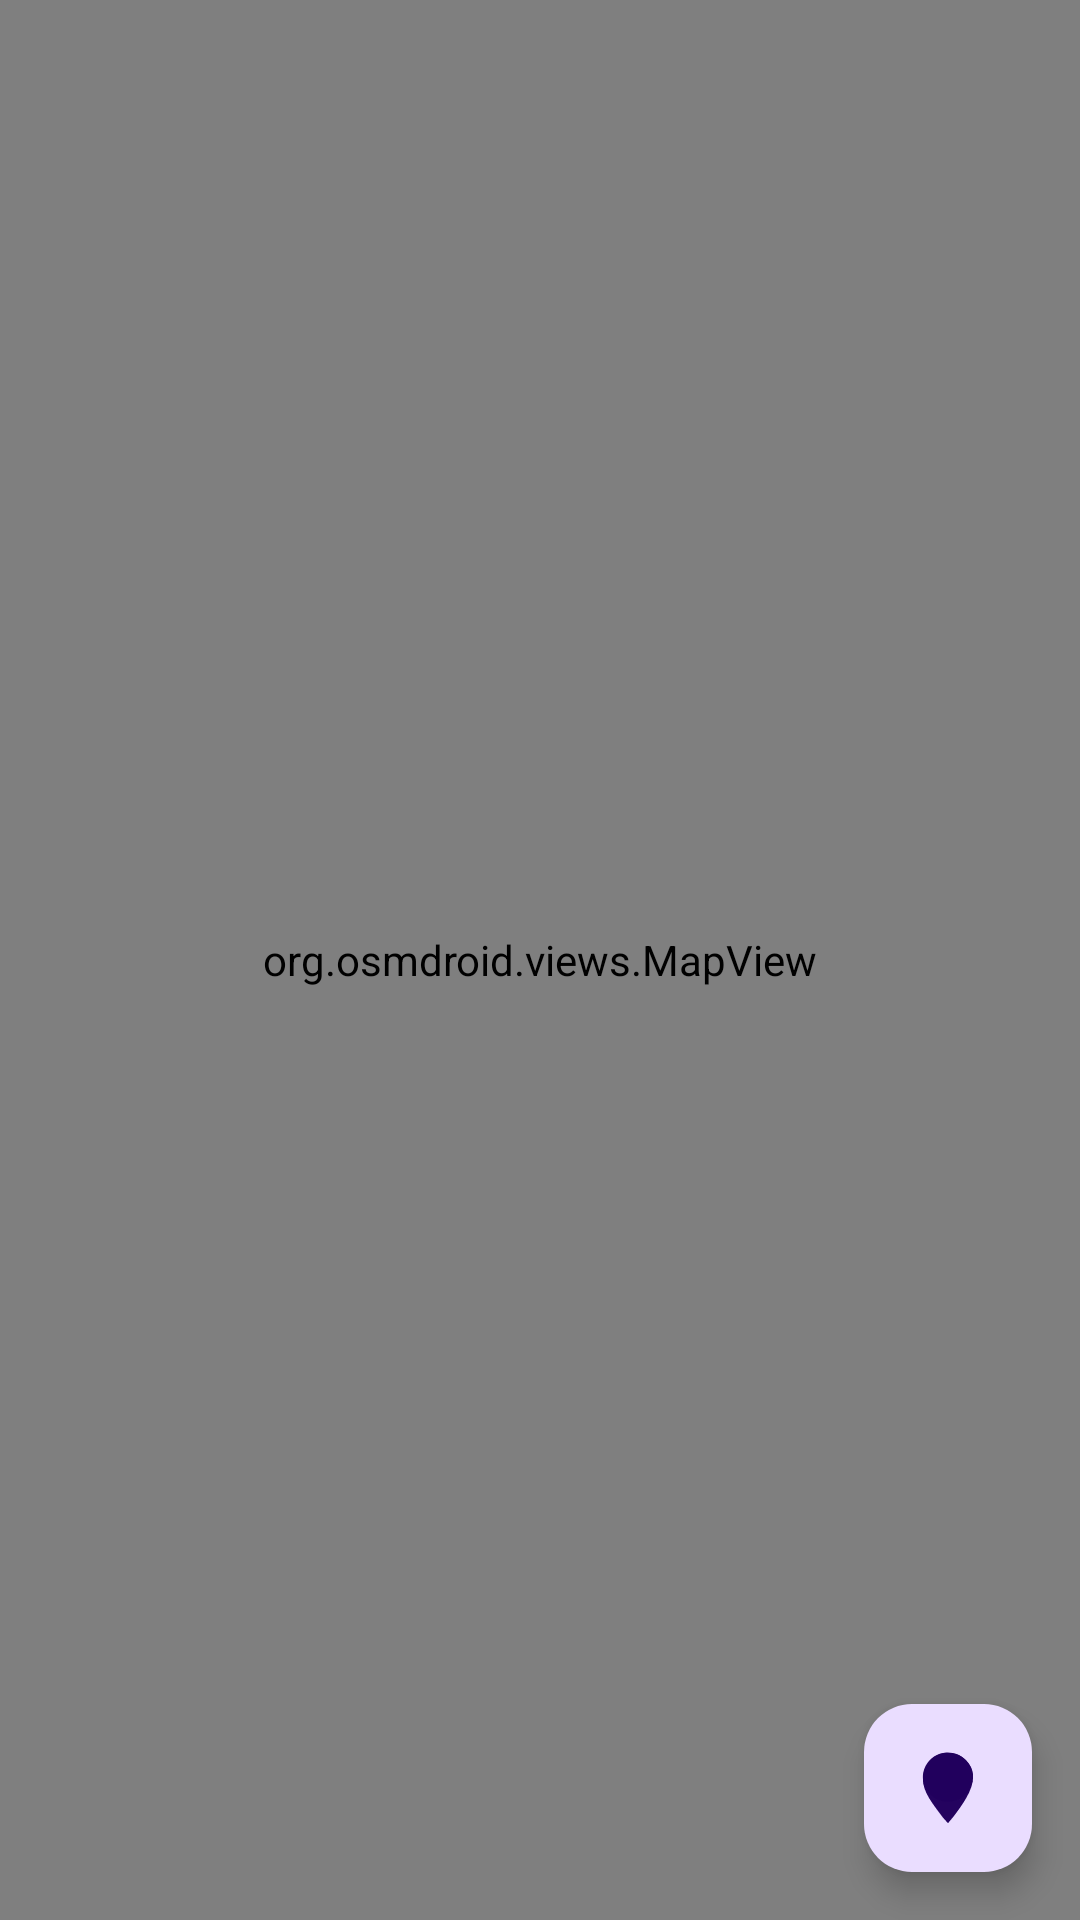

Screen size 1080px x 1920px. Icon name, then its center in pixels as [x,y]:
map pin: [948,1788]
